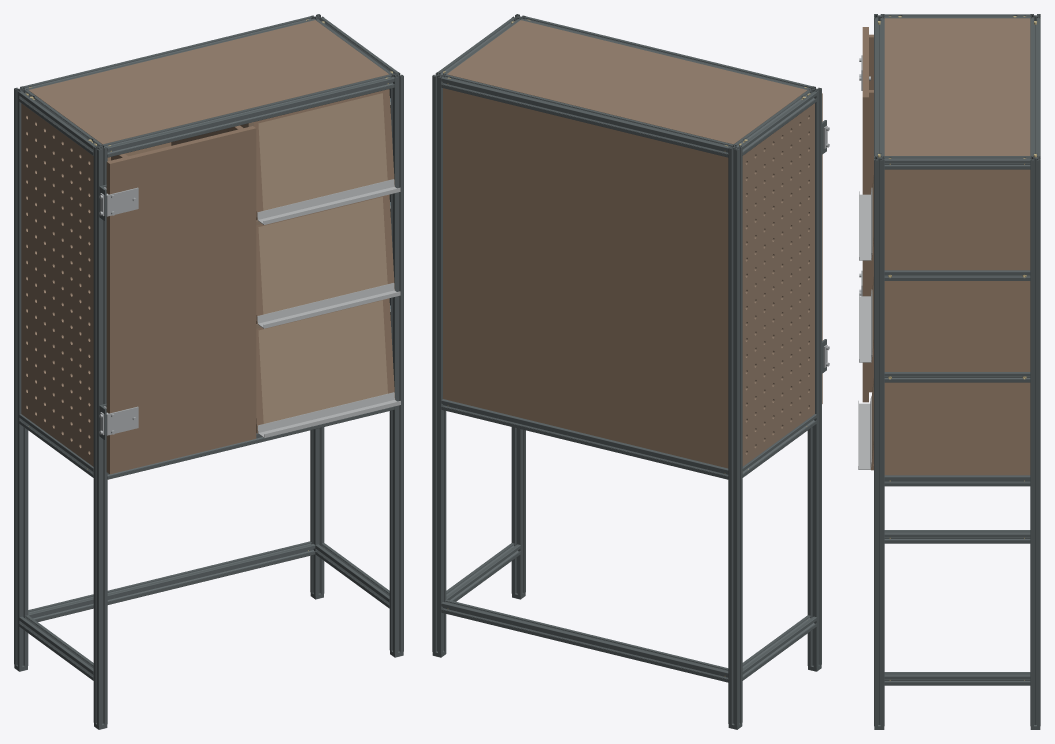
File: cabinet-closed.glb
The picture shows the model from 3 angles, left to right: view 1: azimuth 30°, elevation 25°; view 2: azimuth 150°, elevation 25°; view 3: azimuth 270°, elevation 25°; orthographic projection.
Parts seen in each view (by area): view 1: Door-face-18, Left-pegboard-18, Top-18, Plywood-infill-6-1, Plywood-infill-6-3, Plywood-infill-6-2, Post-4-23, Post-966-23, Post-4-470, Beam-top-front, Beam-lower-rear, Post-966-470 (+15 smaller); view 2: Back-infill-8, Left-pegboard-18, Top-18, Post-4-470, Post-966-470, Post-4-23, Beam-top-rear, Beam-lower-rear, Beam-body-rear, Post-966-23, Beam-top-front, Beam-top-side-4 (+4 smaller); view 3: Top-18, Right-infill-8-3, Right-infill-8-1, Right-infill-8-2, Post-966-23, Post-966-470, Beam-lower-side-4, Beam-lower-side-966, Beam-top-side-966, Beam-body-side-966, Door-face-18, Beam-right-shelf-1 (+8 smaller).
Part boxes in pixels (left/top/right/bottom): Door-face-18: left=106, top=126, right=256, bottom=474; Left-pegboard-18: left=21, top=103, right=93, bottom=466; Top-18: left=28, top=20, right=389, bottom=144; Plywood-infill-6-1: left=258, top=300, right=387, bottom=423; Plywood-infill-6-3: left=258, top=93, right=387, bottom=210; Plywood-infill-6-2: left=258, top=197, right=387, bottom=314; Post-4-23: left=93, top=144, right=107, bottom=726; Post-966-23: left=389, top=72, right=403, bottom=653; Post-4-470: left=14, top=86, right=28, bottom=667; Beam-top-front: left=103, top=74, right=394, bottom=157; Beam-lower-rear: left=28, top=541, right=315, bottom=621; Post-966-470: left=310, top=14, right=324, bottom=595; Back-infill-8: left=443, top=88, right=728, bottom=468; Left-pegboard-18: left=742, top=103, right=814, bottom=466; Top-18: left=447, top=20, right=807, bottom=144; Post-4-470: left=728, top=144, right=742, bottom=726; Post-966-470: left=432, top=72, right=446, bottom=653; Post-4-23: left=807, top=86, right=821, bottom=667; Beam-top-rear: left=441, top=74, right=732, bottom=157; Beam-lower-rear: left=441, top=599, right=728, bottom=682; Beam-body-rear: left=441, top=399, right=728, bottom=479; Post-966-23: left=511, top=14, right=525, bottom=595; Beam-top-front: left=521, top=16, right=812, bottom=89; Beam-top-side-4: left=734, top=90, right=816, bottom=155; Top-18: left=884, top=18, right=1030, bottom=155; Right-infill-8-3: left=884, top=169, right=1030, bottom=270; Right-infill-8-1: left=884, top=382, right=1030, bottom=475; Right-infill-8-2: left=884, top=281, right=1030, bottom=371; Post-966-23: left=874, top=156, right=884, bottom=726; Post-966-470: left=1030, top=156, right=1040, bottom=726; Beam-lower-side-4: left=884, top=530, right=1030, bottom=543; Beam-lower-side-966: left=884, top=672, right=1030, bottom=685; Beam-top-side-966: left=884, top=156, right=1030, bottom=169; Beam-body-side-966: left=884, top=475, right=1030, bottom=486; Door-face-18: left=862, top=27, right=868, bottom=402; Beam-right-shelf-1: left=884, top=372, right=1030, bottom=382.
Size of the model in its own units: 1 by 1.8 by 0.5224.
